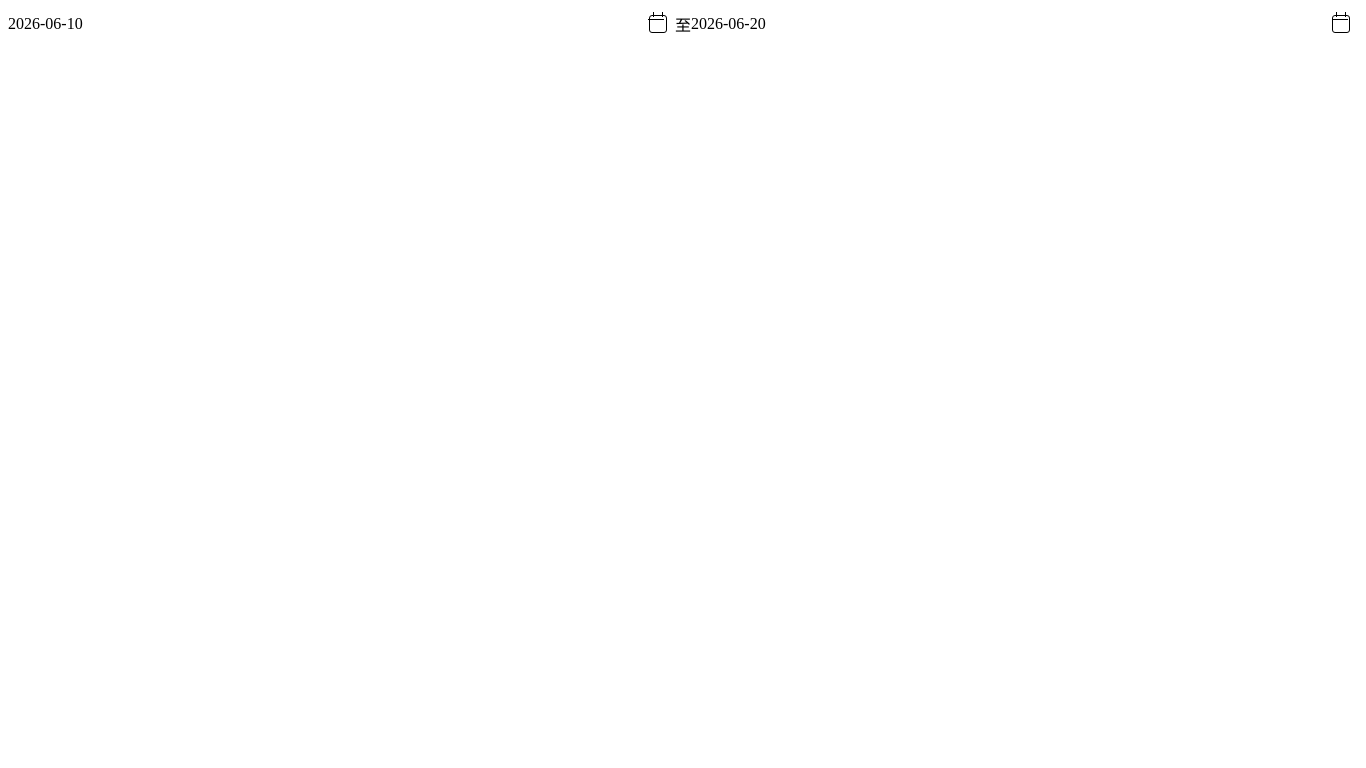
it: DateRangePicker › 限制开始日期不能晚于结束日期
Click the 1st button with class "su-date-picker__trigger": point(658, 24) [641,8,675,40]
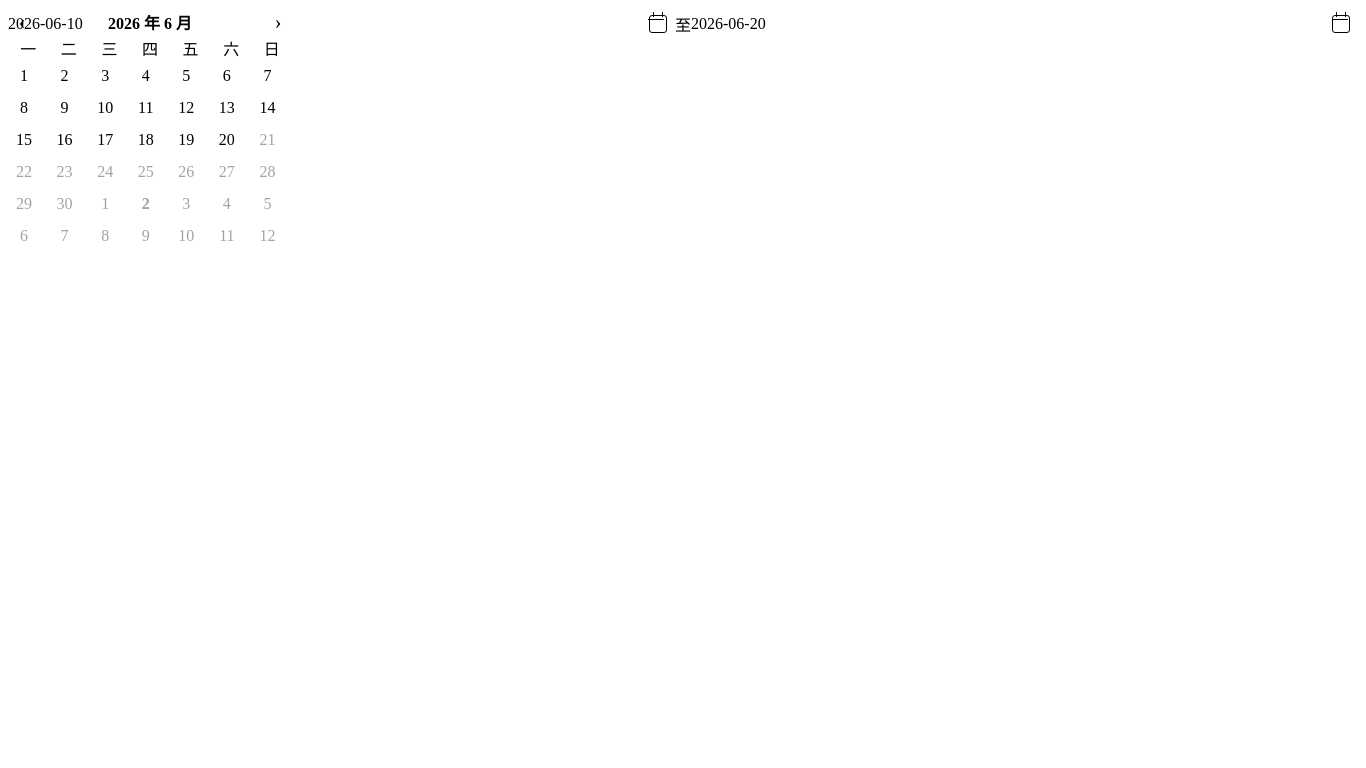
Expected: the cell with class "su-date-picker__cell" showing "21" is disabled, [251,124,283,156]
